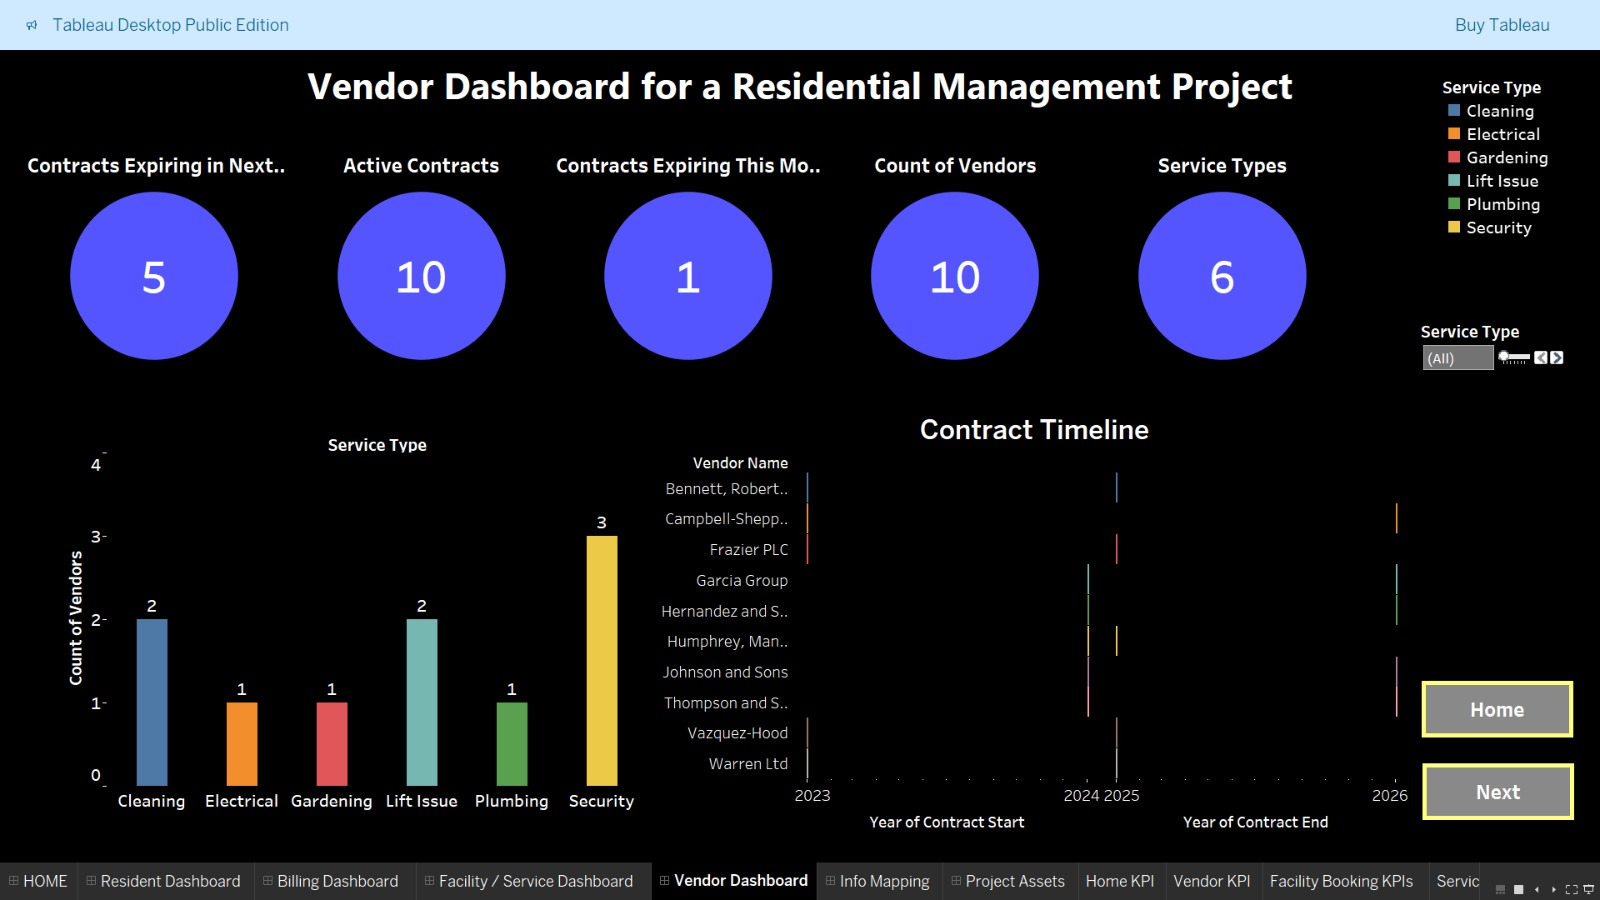

What the dashboard file says about the page in this screenshot:
{"tool":"tableau","page":{"name":"Vendor Dashboard","canvas":[1000,1000],"units":"permille","ordinal":6},"visuals":[{"type":"title","box":[4.2,8.2,991.7,68.7]},{"type":"legend","title":"Vendor","param":"[federated.0xh9awr083edvq17bpfsy1d34hw0].[none:Service Type:nk]","box":[901.5,30.8,86,277.5]},{"type":"worksheet","title":"Vendor KPI","mark":"Shape","box":[13.1,109.9,834.2,273.5]},{"type":"filter","title":"Vendor","param":"[federated.0xh9awr083edvq17bpfsy1d34hw0].[none:Service Type:nk]","box":[887.8,331.1,91,91.2]},{"type":"worksheet","title":"Contract Timeline","mark":"Automatic","rows":["Vendor Name"],"cols":["Contract Start","Contract End"],"box":[412.1,443.7,469.4,525.5]},{"type":"worksheet","title":"Vendor","mark":"Bar","rows":["Vendors_1E3EC85FD59A4150AEA70C2BFA5DC366"],"cols":["Service Type"],"box":[35.7,474.5,368.8,471.9]},{"type":"dashboard-object","box":[888.4,776.1,94.8,69.7]},{"type":"dashboard-object","box":[889,878,94.8,69.7]}]}

Visuals, with their boxes on the dashboard's canvas, which has no fixed pixel size, in thousandths of its width and height (x1, y1, x2, y2). These are canvas units, not pixel positions in the 1600x900 screenshot, which may show the page scaled, cropped or inside an application window:
title: BBox(4, 8, 996, 77)
"Vendor" legend: BBox(902, 31, 988, 308)
"Vendor KPI" worksheet (Shape marks): BBox(13, 110, 847, 383)
"Vendor" filter: BBox(888, 331, 979, 422)
"Contract Timeline" worksheet: BBox(412, 444, 882, 969)
"Vendor" worksheet (Bar marks): BBox(36, 474, 404, 946)
dashboard-object: BBox(888, 776, 983, 846)
dashboard-object: BBox(889, 878, 984, 948)
